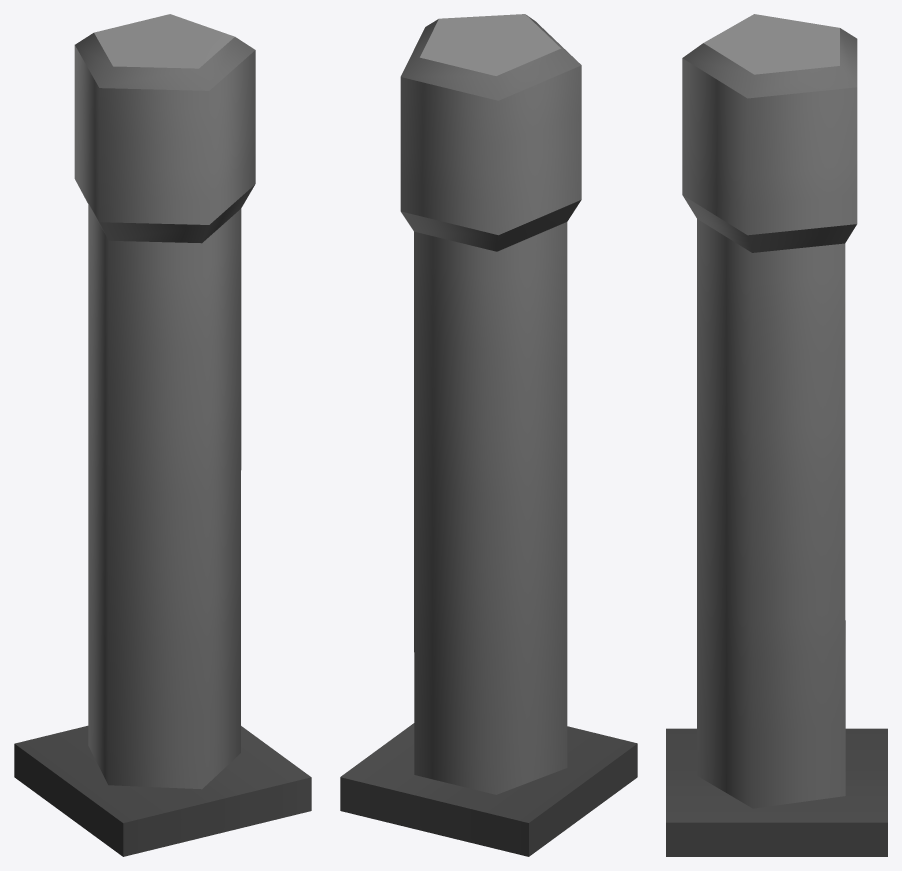
Rendered from Bollards_4_D.fbx.
The picture shows the model from 3 angles, left to right: view 1: azimuth 30°, elevation 25°; view 2: azimuth 150°, elevation 25°; view 3: azimuth 270°, elevation 25°; orthographic projection.
Visible parts, largest first — view 1: Bollards_4_D; view 2: Bollards_4_D; view 3: Bollards_4_D.
Part boxes in pixels (<box>): Bollards_4_D: <box>14,14,311,856</box>; Bollards_4_D: <box>340,14,637,856</box>; Bollards_4_D: <box>666,14,887,856</box>.
Bounding box in the file's own units: 15.3 × 58.39 × 15.3.
